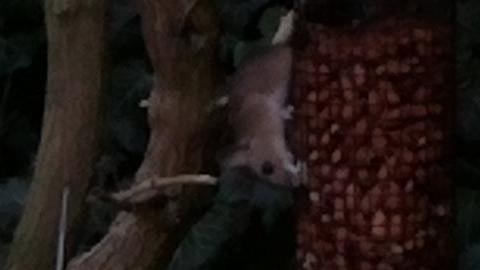mouse: (221, 42, 300, 188)
